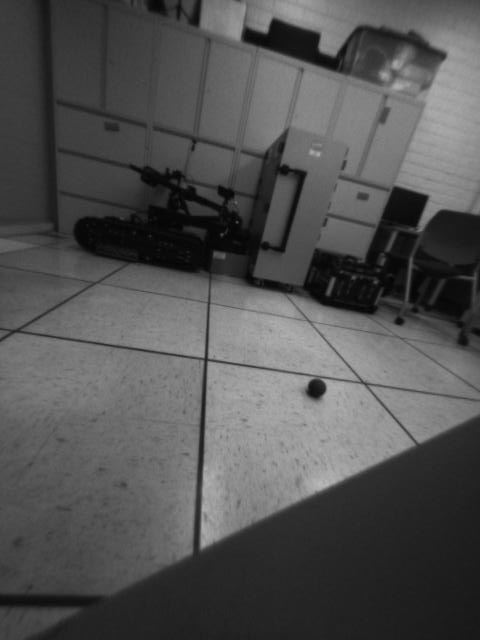dogtoy: (300, 369, 334, 404)
